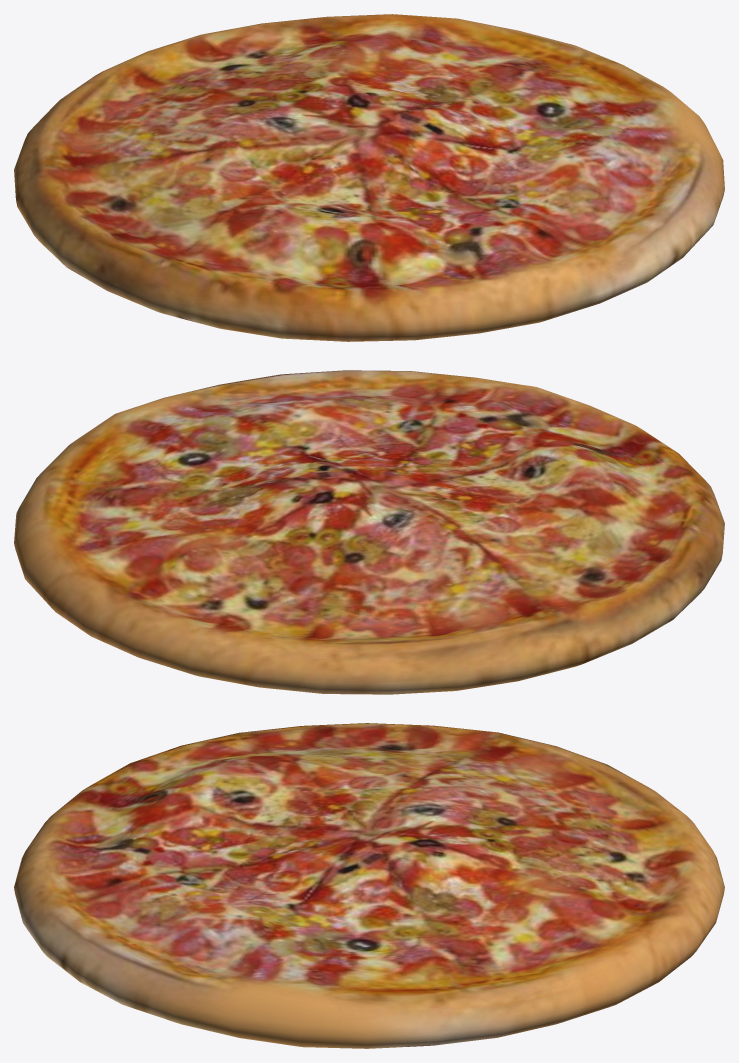
3 renders of one model, top to bottom at view 1: azimuth 30°, elevation 25°; view 2: azimuth 150°, elevation 25°; view 3: azimuth 270°, elevation 25°, orthographic.
Parts seen in each view (by area): view 1: Pizza_01; view 2: Pizza_01; view 3: Pizza_01.
Boxes of the visible parts, x1,y1,x2,y2 form: Pizza_01: [14, 14, 724, 341]; Pizza_01: [14, 370, 724, 694]; Pizza_01: [14, 723, 724, 1048].
Size of the model in its own units: 19.1 by 2.76 by 19.09.
10 materials, 10 textured.
